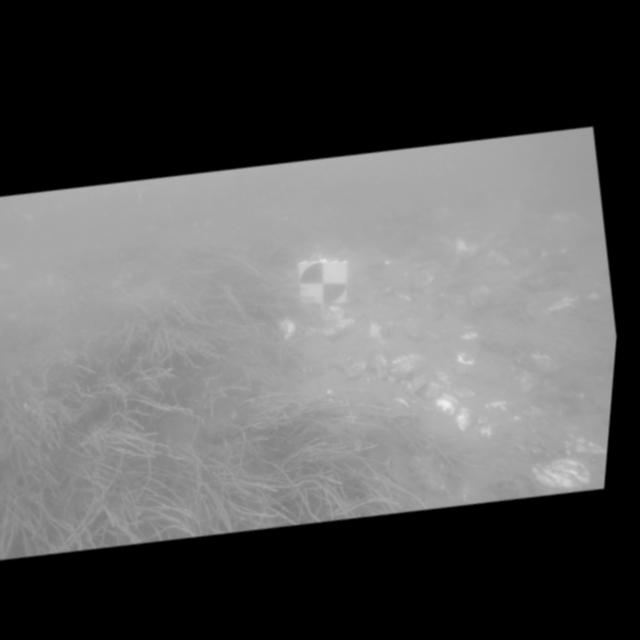Oyster-Closed: (532, 459, 590, 490), (389, 353, 426, 381), (322, 306, 355, 329), (371, 350, 389, 379), (345, 362, 367, 377)
Oyster-Indeterminate: (450, 379, 485, 410), (455, 352, 478, 375), (276, 317, 296, 340), (401, 377, 427, 394), (455, 408, 472, 431), (435, 398, 455, 416), (426, 380, 442, 399), (368, 320, 382, 338)
Oyster-Open: (385, 396, 415, 425), (384, 453, 406, 490), (321, 319, 355, 341), (383, 322, 393, 336)
